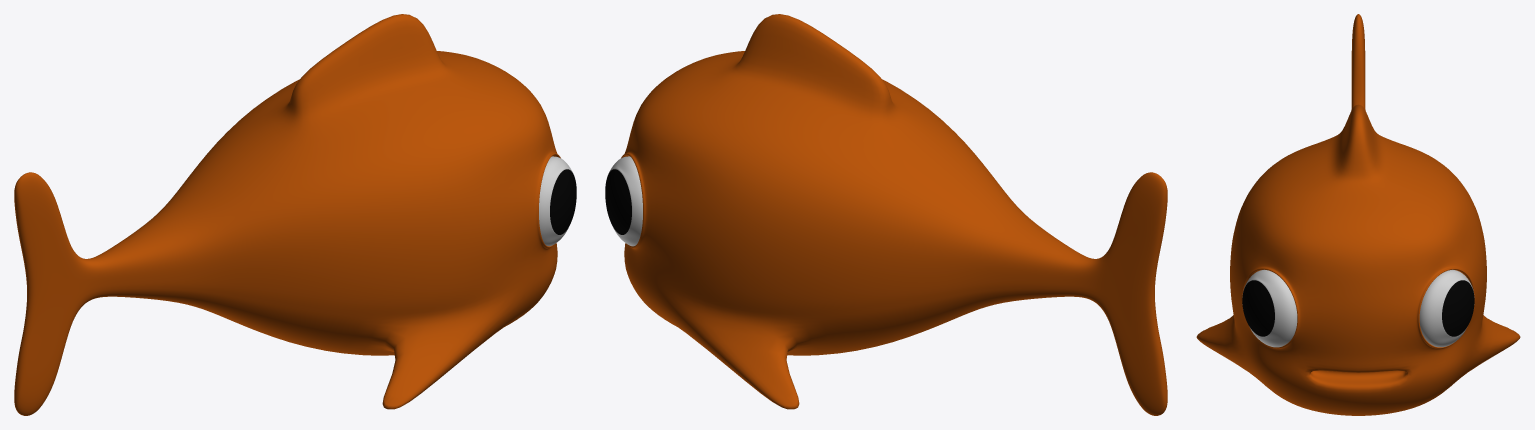
File: Fish 1.obj
3 renders of one model, left to right at view 1: azimuth 30°, elevation 25°; view 2: azimuth 150°, elevation 25°; view 3: azimuth 270°, elevation 25°, orthographic. The views are drawn at different scales.
Parts seen in each view (by area): view 1: Fish; view 2: Fish; view 3: Fish.
Boxes of the visible parts, bbox=[...] form: Fish: bbox=[14, 14, 576, 415]; Fish: bbox=[605, 14, 1167, 415]; Fish: bbox=[1196, 14, 1520, 415].
Size of the model in its own units: 0.1481 by 0.0861 by 0.0911.
